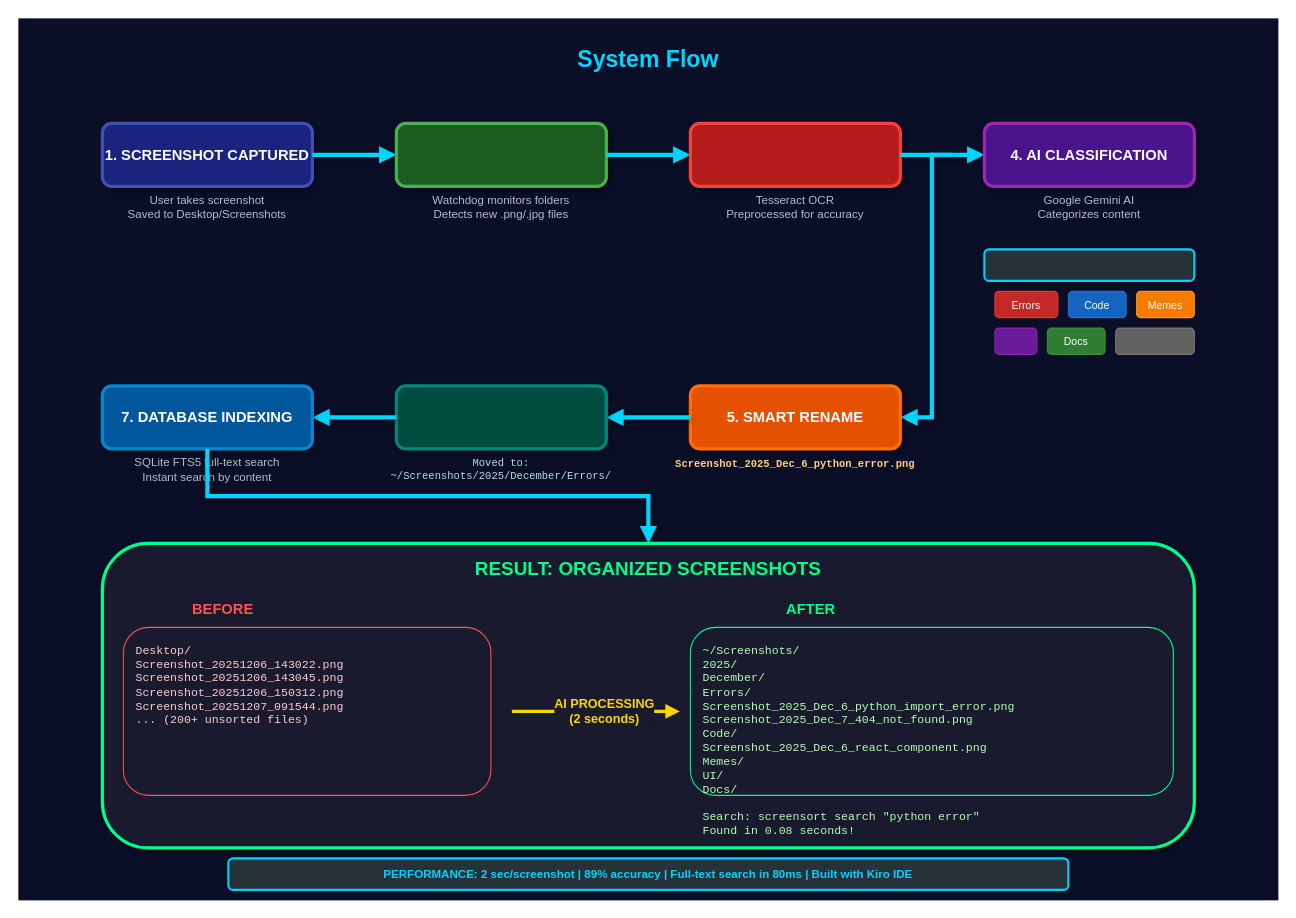
This 1296x918 diagram has some shape labels left out. Here are the shapes that lost their labels. From the top down, the centre of each, then its label:
At [502,156]: "2. FILE DETECTED".
At [796,156]: "3. TEXT EXTRACTION".
At [1090,266]: "CATEGORIES".
At [1015,340]: "UI".
At [1154,340]: "Other".
At [502,418]: "6. FILE ORGANIZATION".
